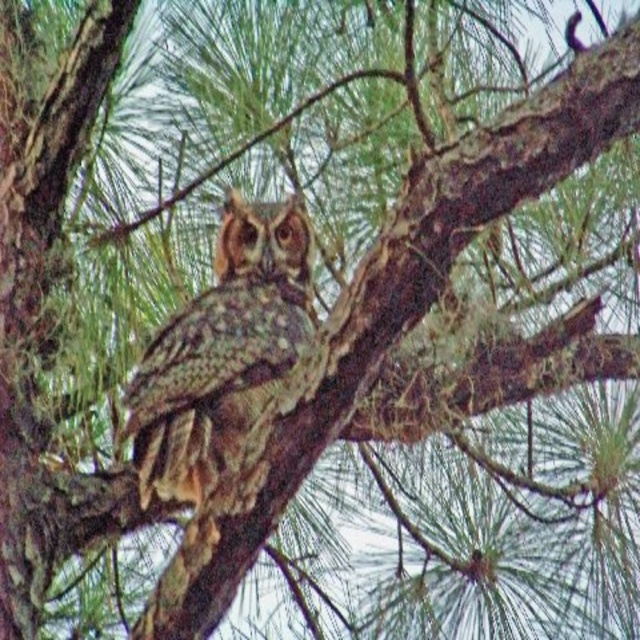Owl: (120, 188, 323, 512)
